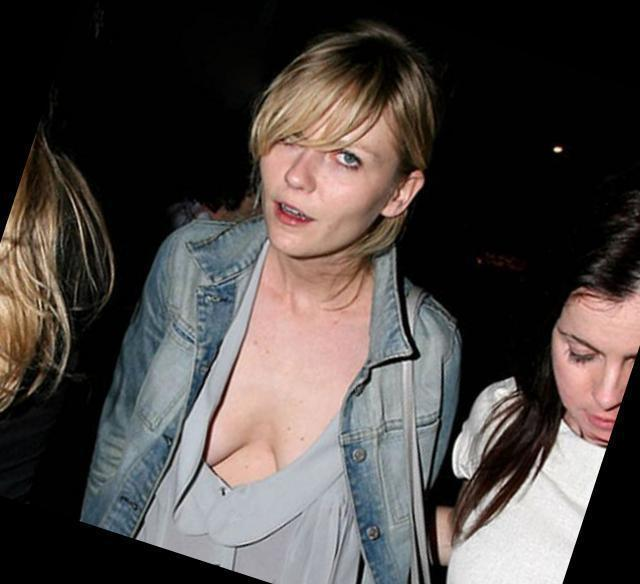Drunk: (257, 100, 393, 252)
